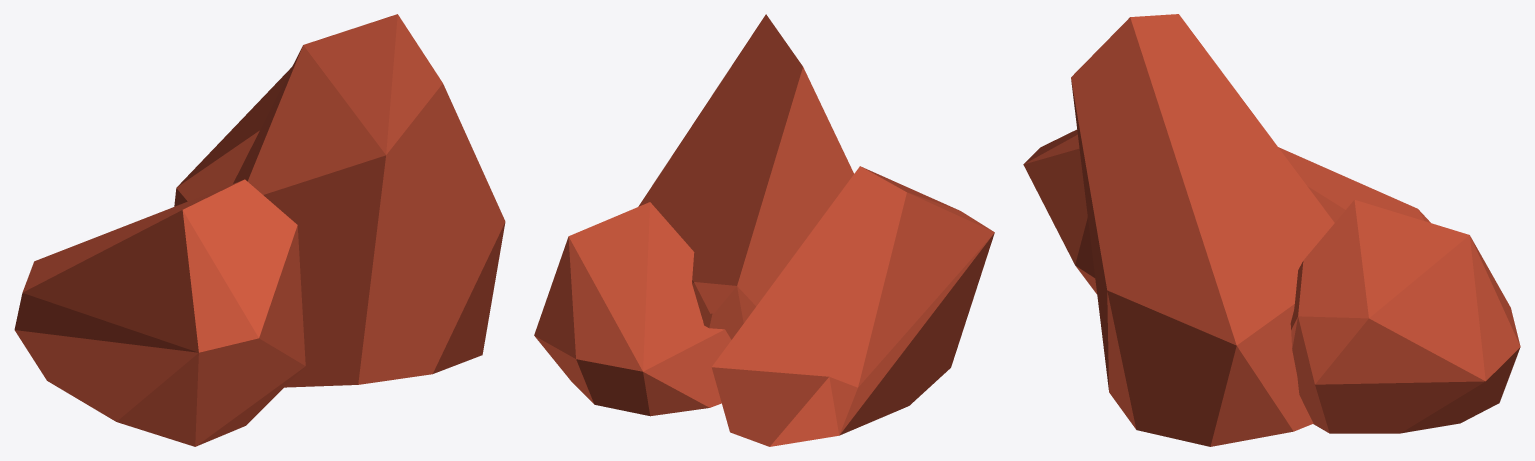
Rendered from Stones_3.fbx.
3 views of the same model, side by side, from view 1: azimuth 30°, elevation 25°; view 2: azimuth 150°, elevation 25°; view 3: azimuth 270°, elevation 25° (orthographic). The views are drawn at different scales.
Visible parts, largest first — view 1: Stones_3; view 2: Stones_3; view 3: Stones_3.
Part boxes in pixels (x1=…): Stones_3: x1=14, y1=14, x2=505, y2=446; Stones_3: x1=534, y1=14, x2=994, y2=446; Stones_3: x1=1023, y1=14, x2=1520, y2=446.
Size of the model in its own units: 64.08 by 57.36 by 69.53.
1 material, 1 textured.
